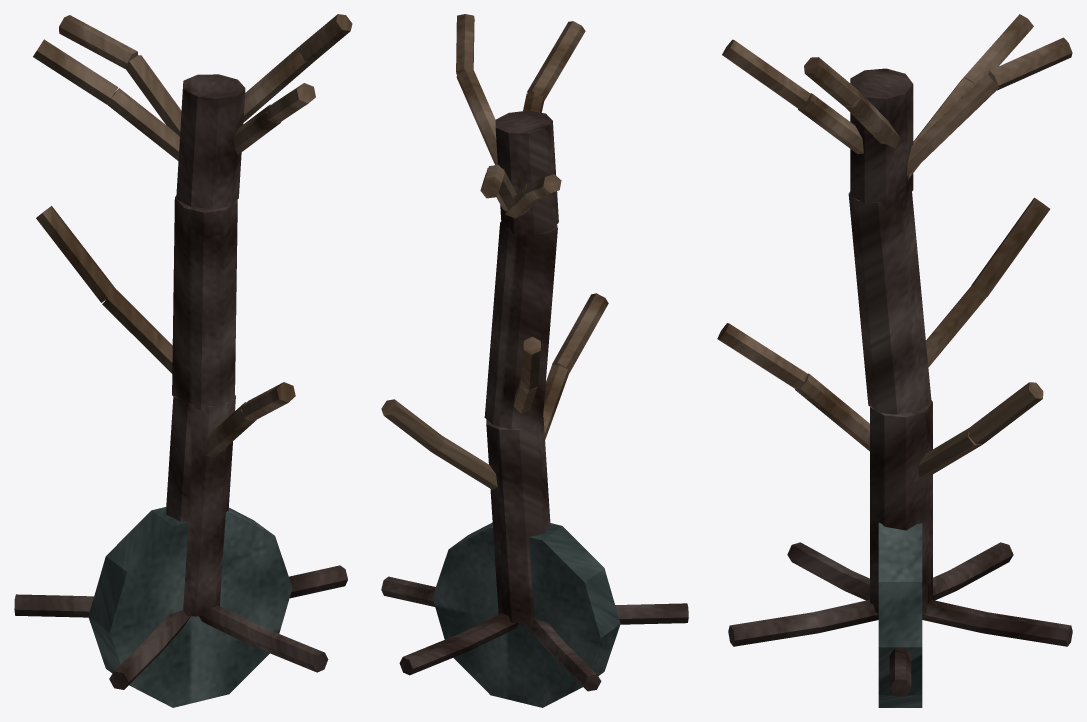
Rendered from 0145_dead_tree_20.glb.
3 renders of one model, left to right at view 1: azimuth 30°, elevation 25°; view 2: azimuth 150°, elevation 25°; view 3: azimuth 270°, elevation 25°, orthographic. The views are drawn at different scales.
Parts seen in each view (by area): view 1: wood_dark, stone_dark, wood; view 2: wood_dark, stone_dark, wood; view 3: wood_dark, wood, stone_dark.
Boxes of the visible parts, x1=… form: wood_dark: x1=14, y1=74, x2=347, y2=689; stone_dark: x1=88, y1=507, x2=292, y2=707; wood: x1=33, y1=14, x2=352, y2=457; wood_dark: x1=381, y1=110, x2=688, y2=691; stone_dark: x1=432, y1=522, x2=620, y2=707; wood: x1=381, y1=14, x2=608, y2=489; wood_dark: x1=728, y1=68, x2=1072, y2=696; wood: x1=717, y1=14, x2=1072, y2=477; stone_dark: x1=878, y1=522, x2=922, y2=707.
Size of the model in its own units: 1.66 by 3.86 by 1.8.
Materials: 3 (3 with a texture image).
